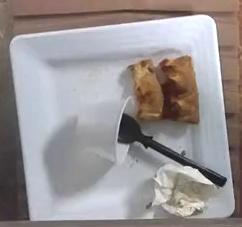pizza_crust: (134, 56, 198, 123)
